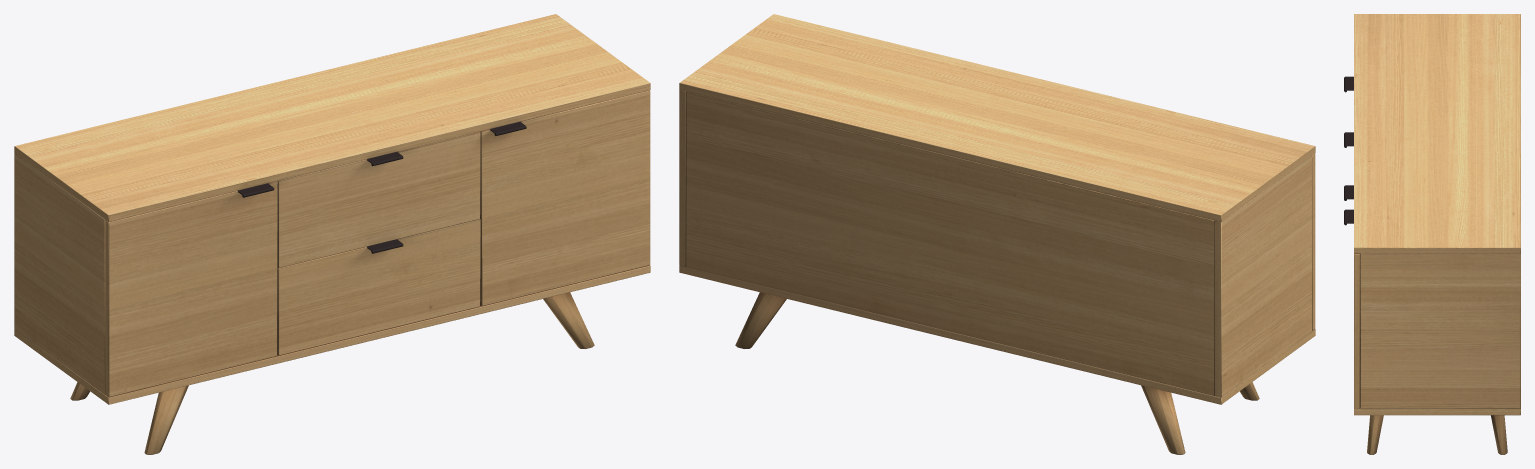
The model's file is aveiro_sideboard_oak.glb.
3 views of the same model, side by side, from view 1: azimuth 30°, elevation 25°; view 2: azimuth 150°, elevation 25°; view 3: azimuth 270°, elevation 25° (orthographic). The views are drawn at different scales.
Visible parts, largest first — view 1: OAK, HANDLE; view 2: OAK; view 3: OAK, HANDLE.
Boxes of the visible parts, x1,y1,x2,y2 form: OAK: (14,14,650,454); HANDLE: (238,122,526,253); OAK: (679,14,1315,454); OAK: (1354,14,1520,454); HANDLE: (1344,76,1353,225).
Size of what is drawn, in the model's own units: 160 by 72.67 by 51.1.
Materials: 2 (1 with a texture image).
